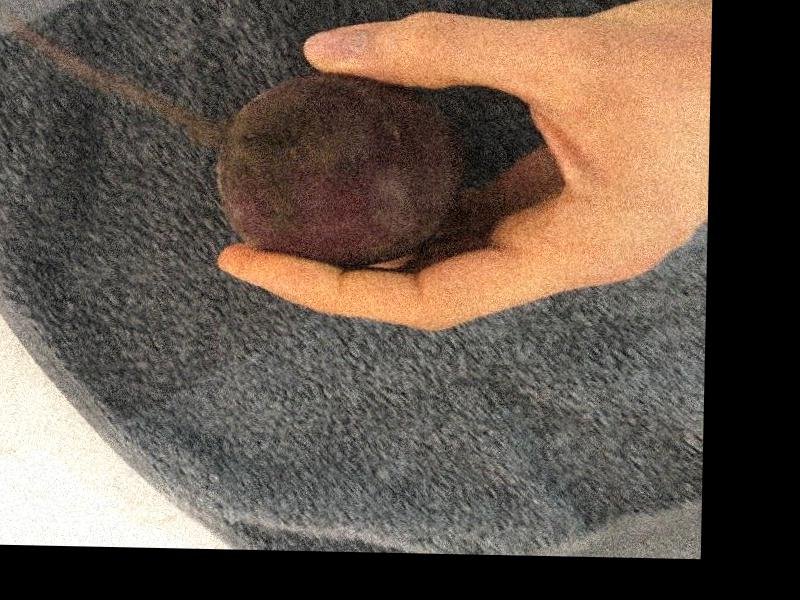Beet: (217, 71, 466, 268)
